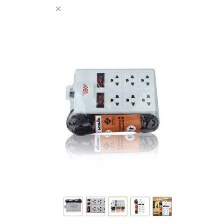three_eye_plug: (61, 64, 165, 125)
